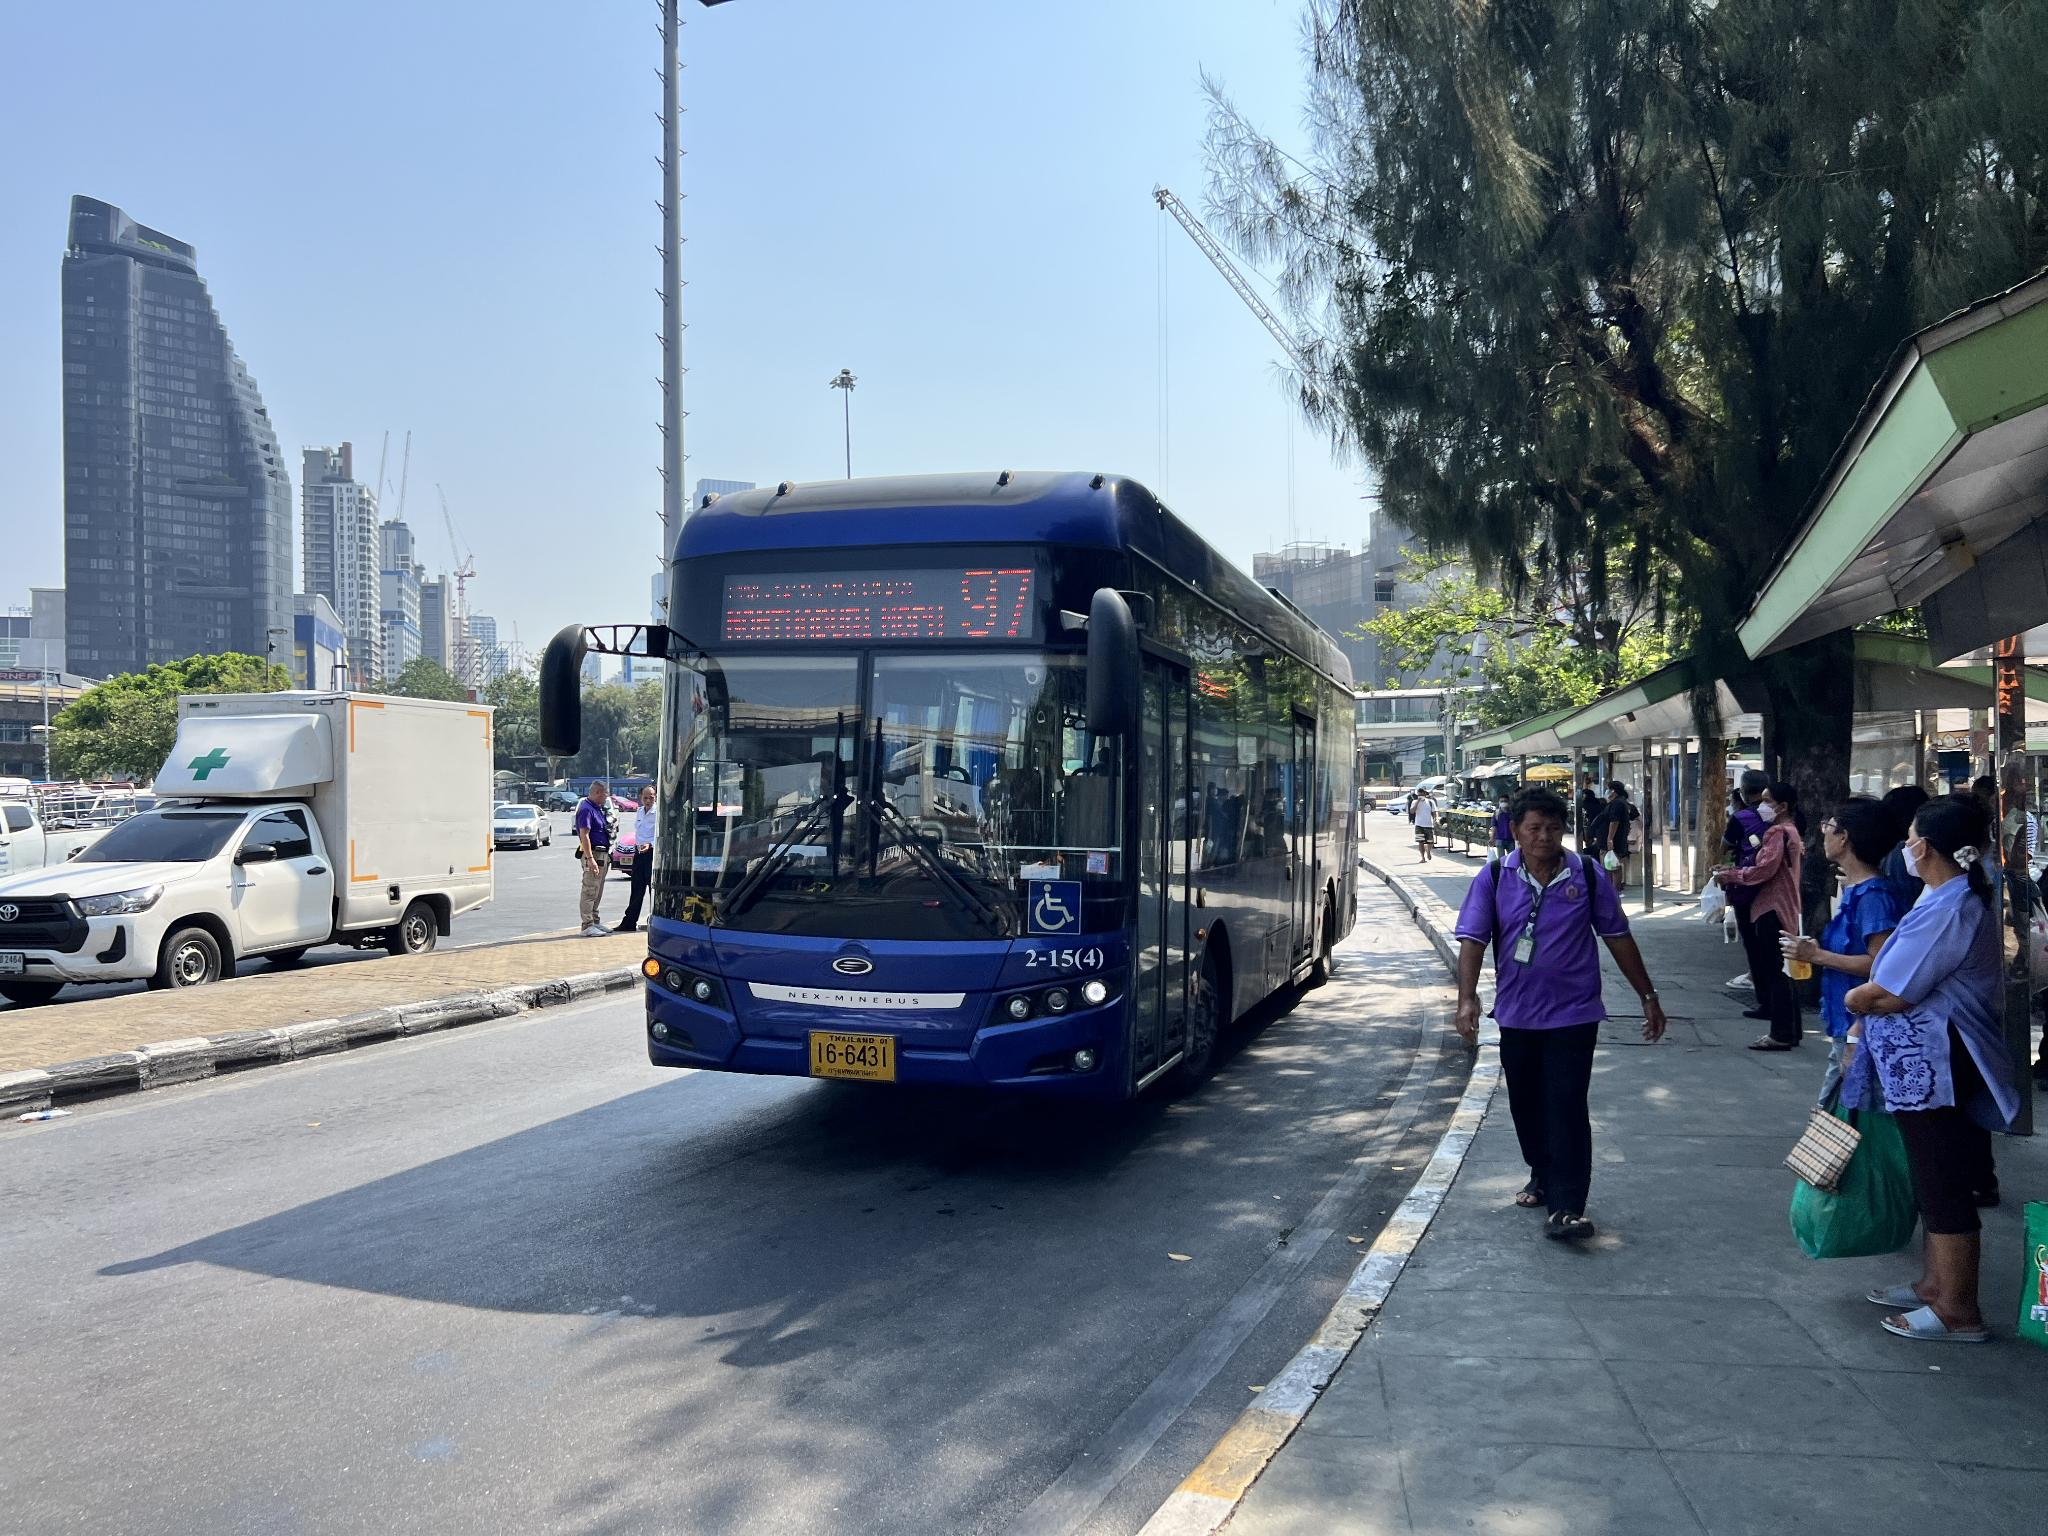Bus Line Number: (955, 558, 1039, 650)
Bus Side Number: (1021, 944, 1106, 973)
Destination Sign: (716, 563, 951, 647)
TSB-Bus: (639, 471, 1361, 1112)
